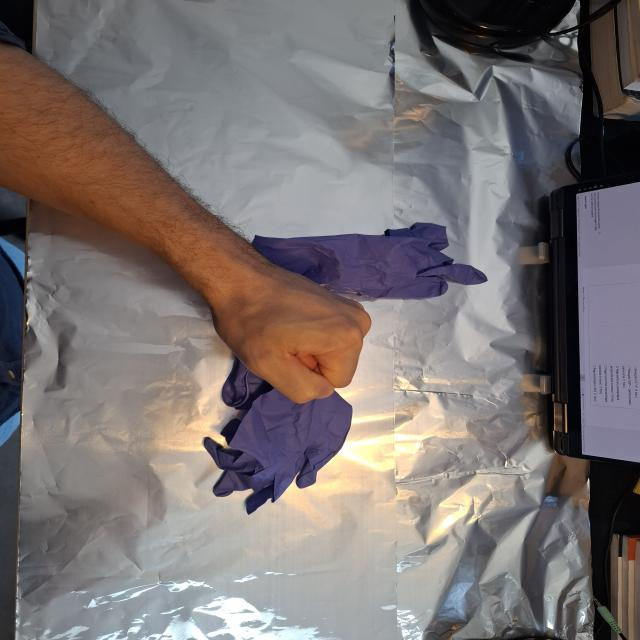glove_off: (204, 249, 374, 404)
